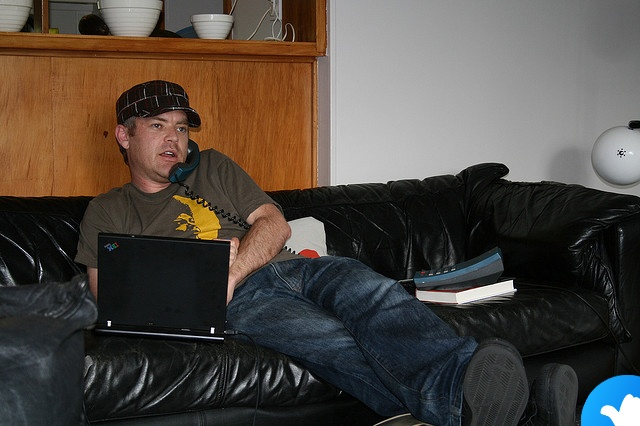like: (581, 375, 640, 426)
